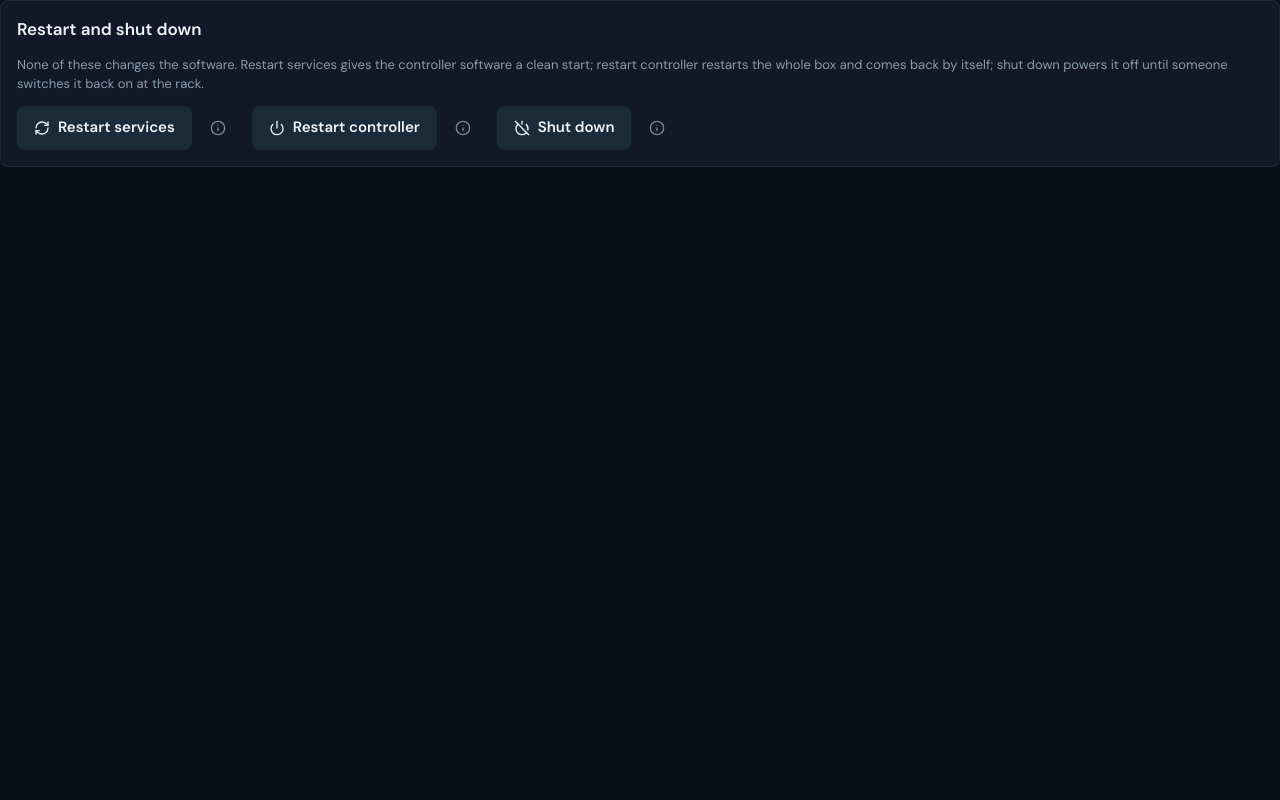
Test: RestartRebootCard — restart › reports a failure inline rather than waiting forever
The width and height of the screenshot is (1280, 800).
Click the button "Restart services" at {"x": 104, "y": 128}, box x1=17 y1=106 x2=192 y2=150
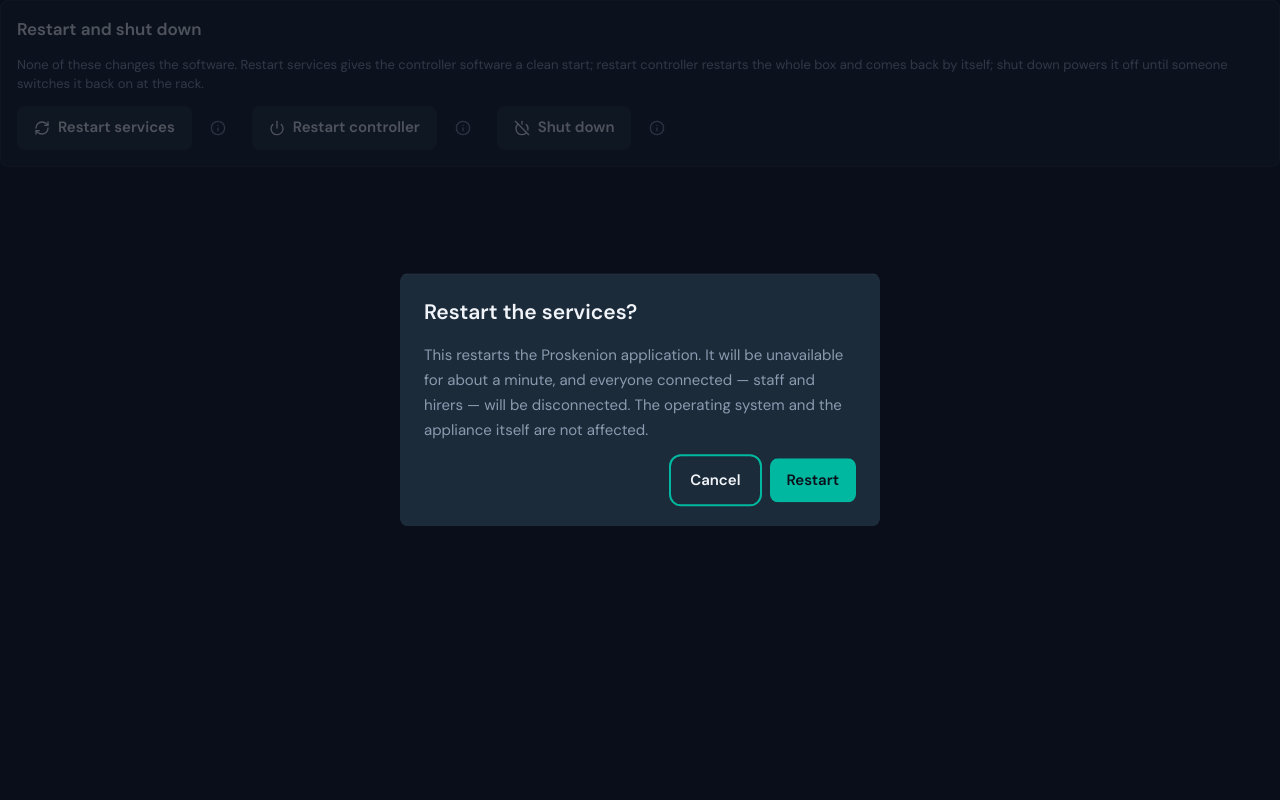
Click the button "Restart" at {"x": 813, "y": 481}, box x1=770 y1=459 x2=856 y2=503
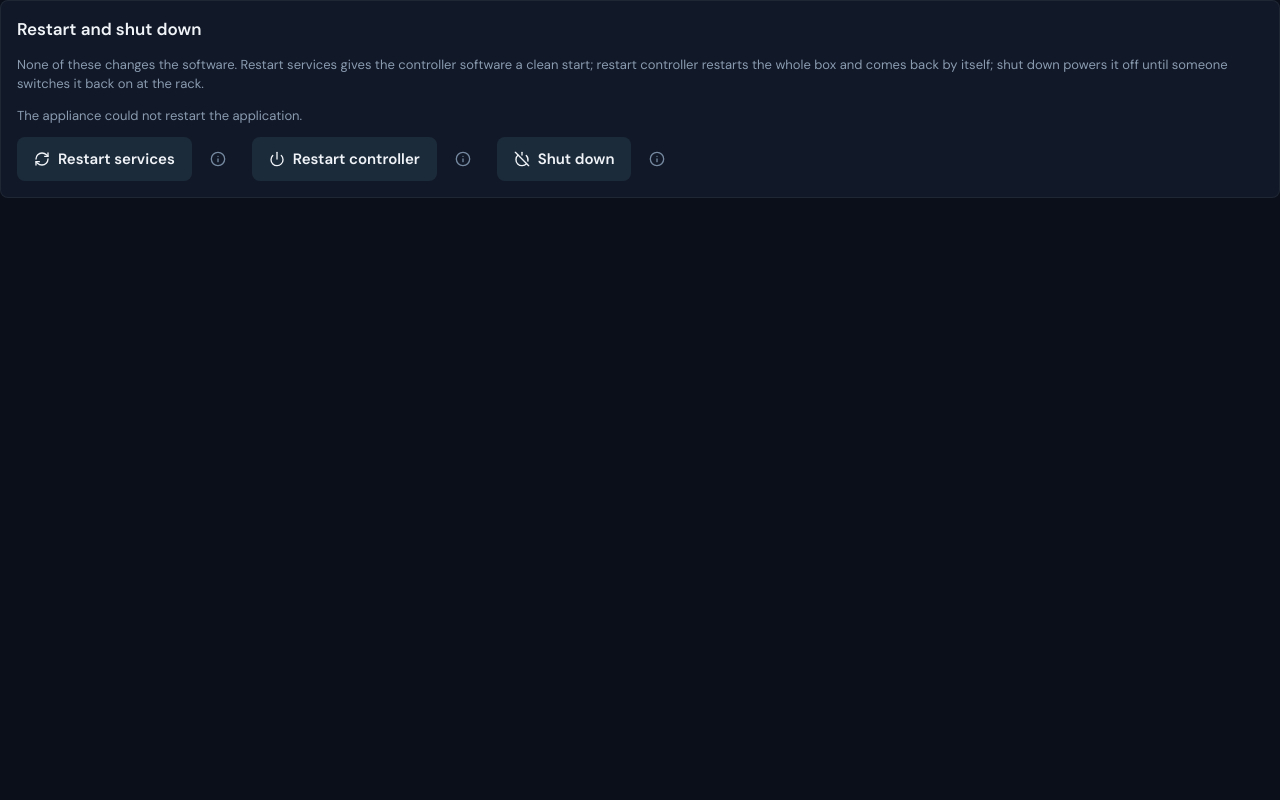
Check: the text "The appliance could not restart the application." is shown, box x1=17 y1=106 x2=302 y2=124
